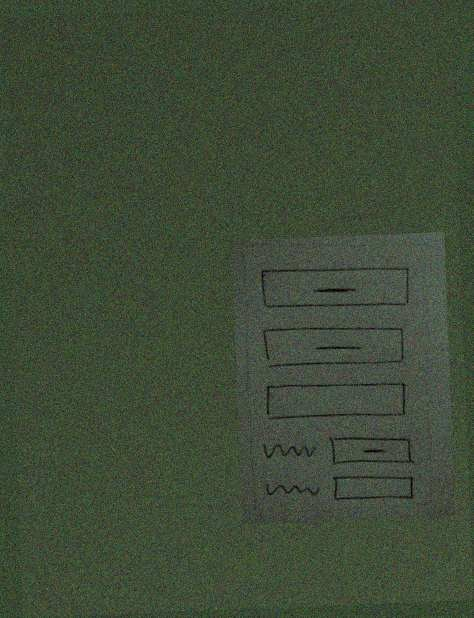button: (258, 261, 411, 318), (258, 318, 410, 375), (327, 431, 415, 471)
text: (262, 475, 323, 505), (258, 433, 318, 463)
text_input: (261, 377, 409, 427), (330, 471, 415, 505)
